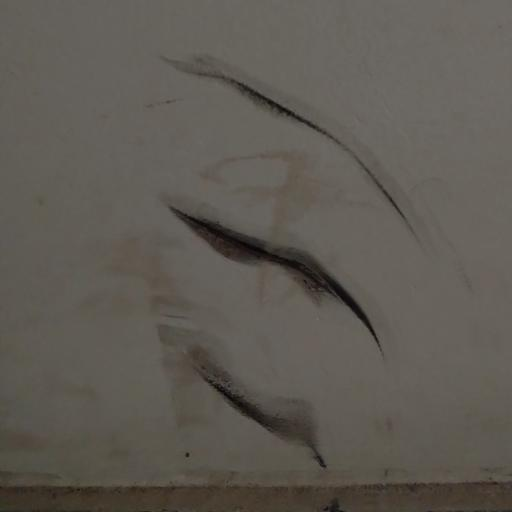stain: (134, 45, 456, 483)
